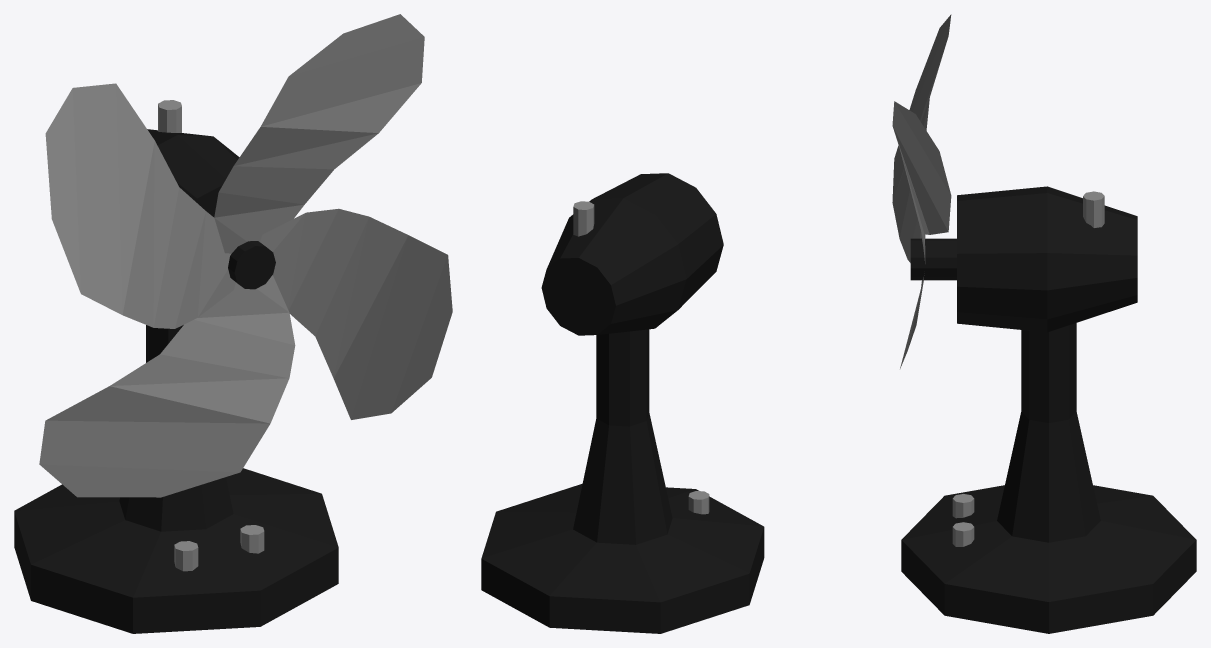
File: smallapp_06.glb
The picture shows the model from 3 angles, left to right: view 1: azimuth 30°, elevation 25°; view 2: azimuth 150°, elevation 25°; view 3: azimuth 270°, elevation 25°; orthographic projection. The views are drawn at different scales.
Parts seen in each view (by area): view 1: spin, Desk_Fan; view 2: Desk_Fan; view 3: Desk_Fan, spin.
Part boxes in pixels (box(x1,y1,x2,y2)): spin: box(39, 14, 452, 497); Desk_Fan: box(14, 100, 338, 633); Desk_Fan: box(481, 173, 764, 633); Desk_Fan: box(901, 186, 1196, 633); spin: box(892, 14, 951, 368).
Bounding box in the file's own units: 0.1947 × 0.2622 × 0.1455.
1 material, 1 textured.
